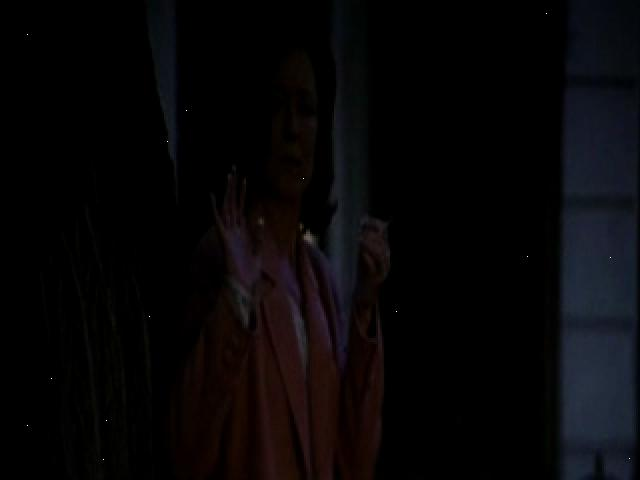T: (159, 10, 394, 479)
